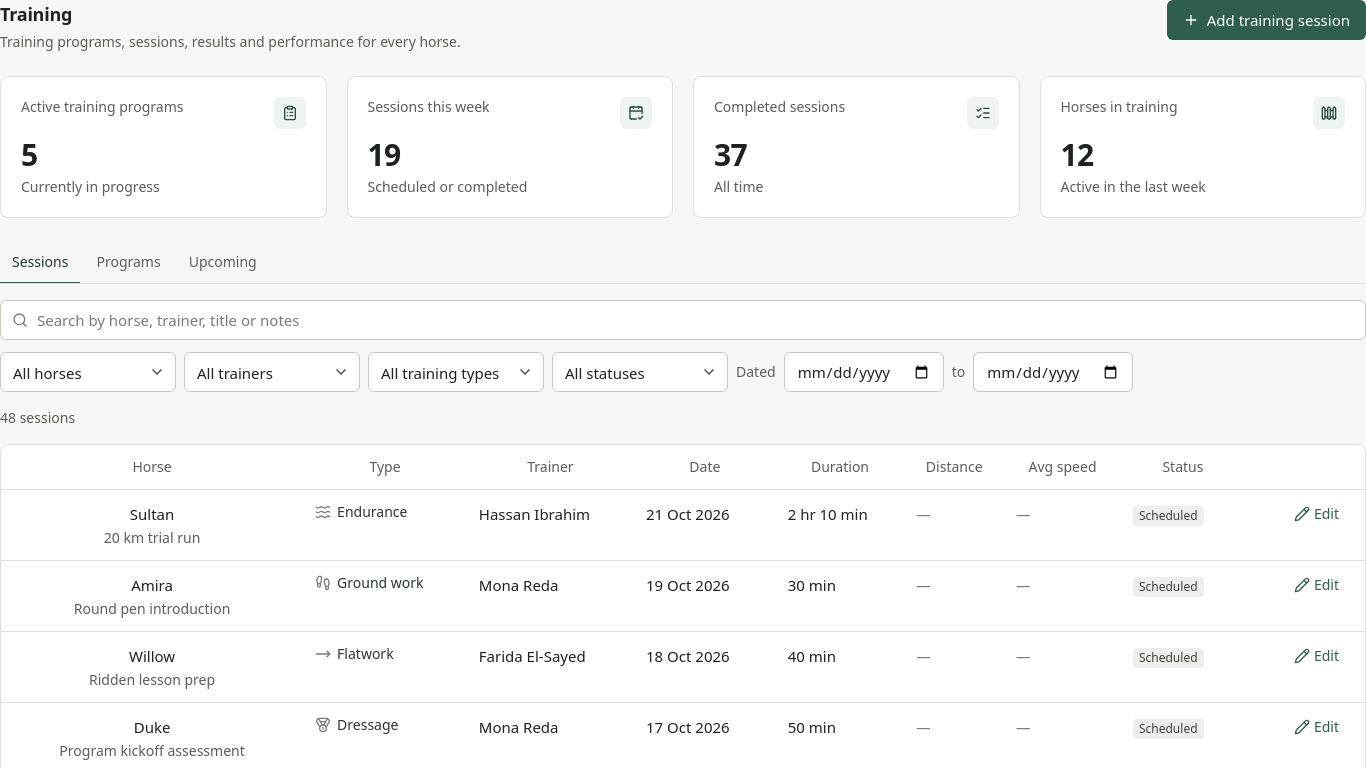
Test: TrainingOverviewPage › filters the list as the user searches
This screenshot has width=1366, height=768.
Type "Sprint intervals" into the search field named "search training sessions" at [683, 320], box x1=0 y1=300 x2=1365 y2=340
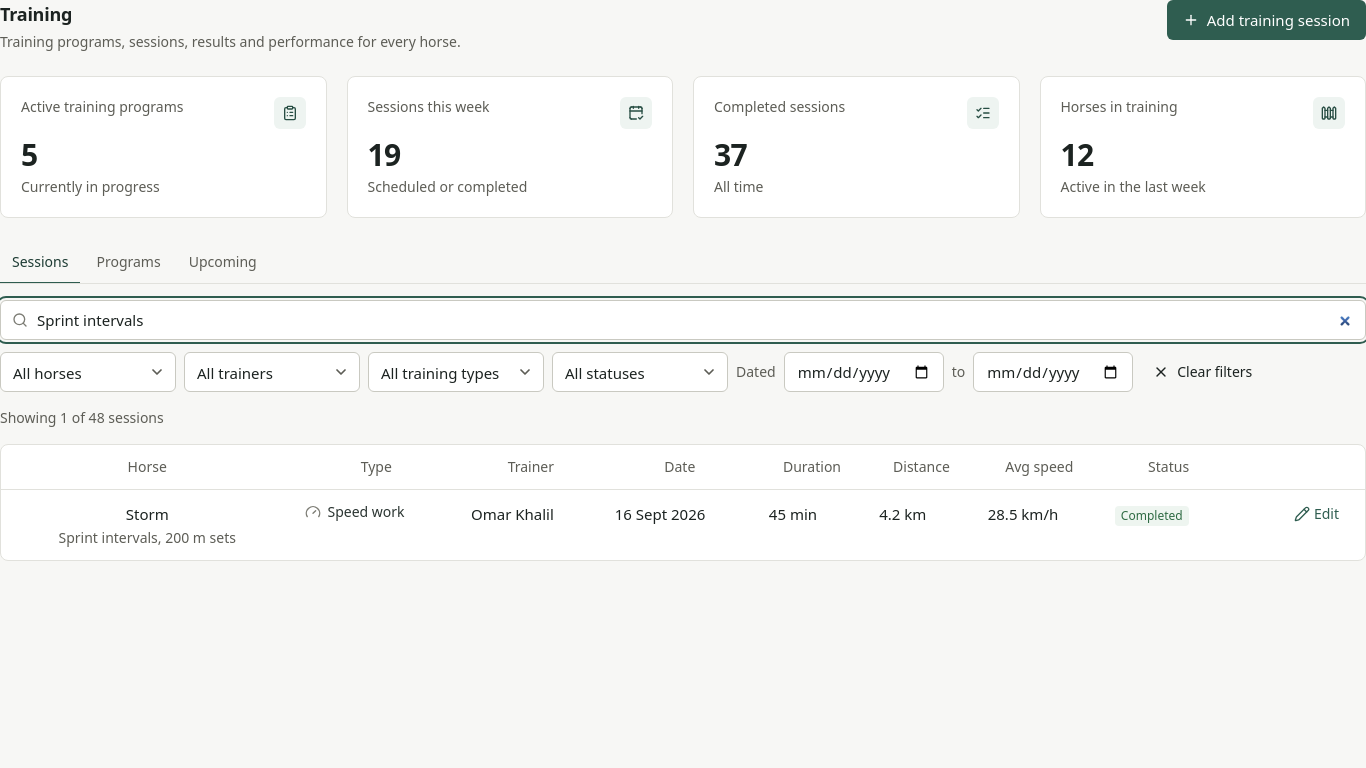
Check: the text "Showing 1 of 48 sessions" is shown, box x1=0 y1=408 x2=164 y2=427
